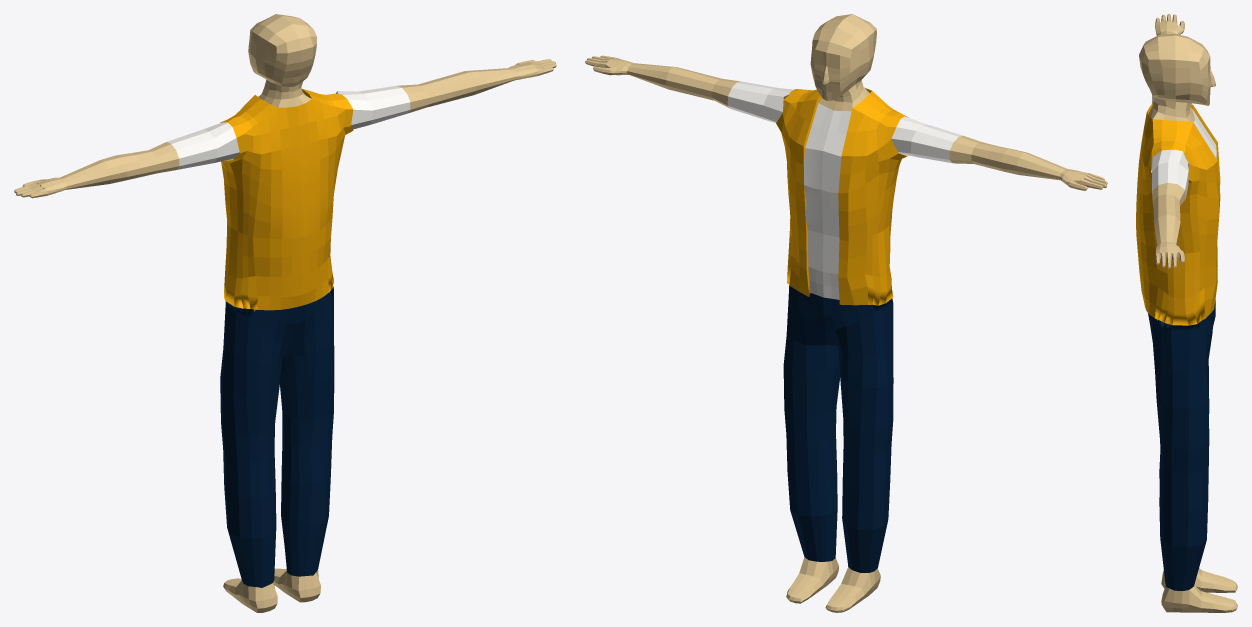
The model's file is worker1.fbx.
3 views of the same model, side by side, from view 1: azimuth 30°, elevation 25°; view 2: azimuth 150°, elevation 25°; view 3: azimuth 270°, elevation 25° (orthographic). The views are drawn at different scales.
Visible parts, largest first — view 1: Worker1; view 2: Worker1; view 3: Worker1.
Boxes of the visible parts, x1=… form: Worker1: x1=14, y1=14, x2=556, y2=612; Worker1: x1=585, y1=14, x2=1107, y2=612; Worker1: x1=1136, y1=14, x2=1237, y2=612.
Bounding box in the file's own units: 460 × 479 × 78.53.
